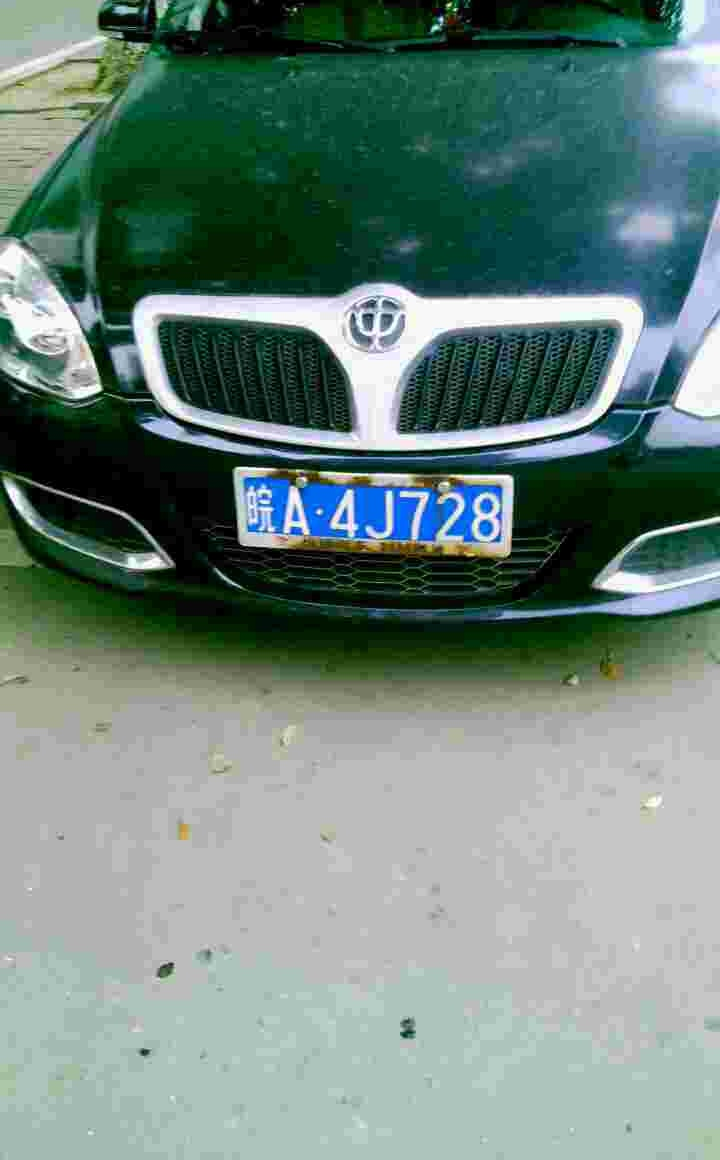plate: (239, 470, 517, 557)
